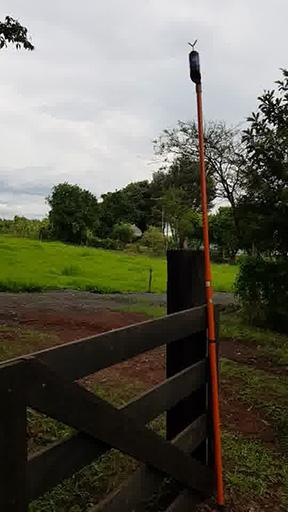Detector_Tensao_Contato: (186, 39, 201, 84)
Vara_Manobra: (193, 84, 225, 507)
